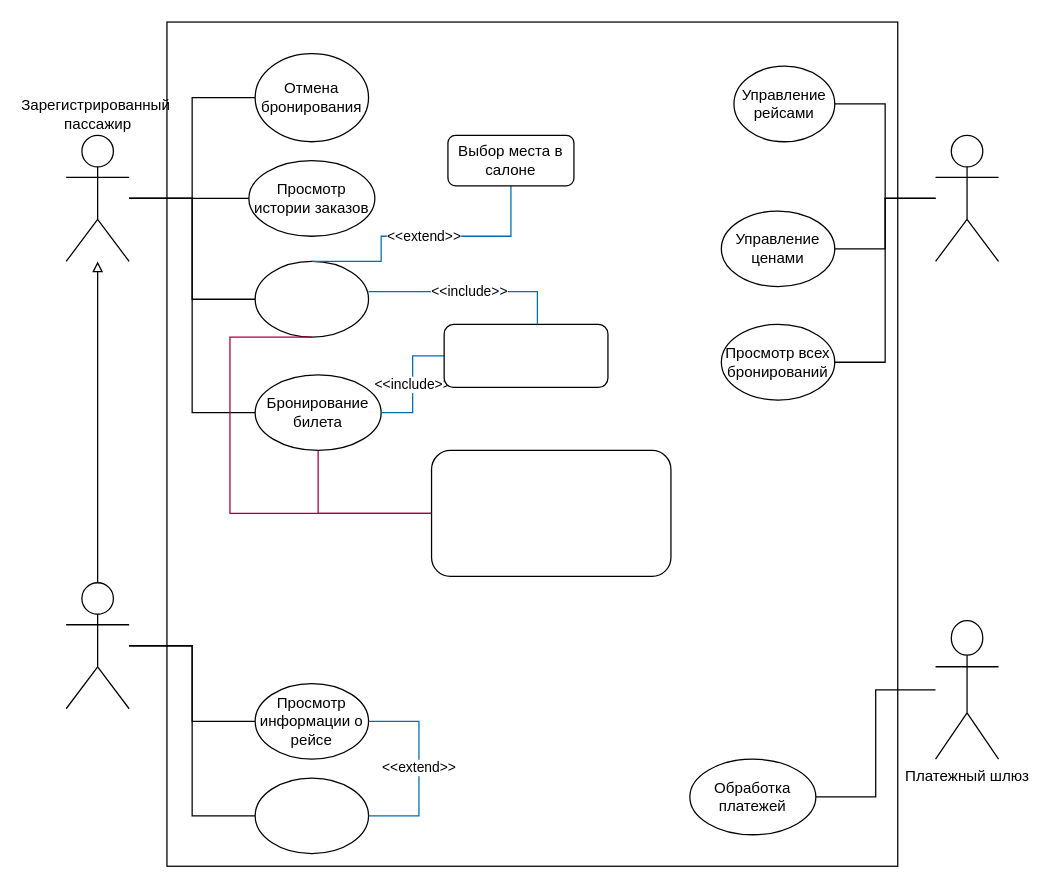
Some shapes in this 1051 by 888 pixel diagram are drawn without their labels. Each missing label, with the box of its shape:
Администратор: (934, 134, 999, 261)
Аутентификация и проверка доступности мест: (443, 323, 608, 387)
Неавторизованный пользователь: (65, 581, 129, 709)
Оформление заказа: (430, 449, 671, 576)
Поиск рейсов: (254, 777, 369, 854)
Покупка билета: (254, 260, 369, 337)
